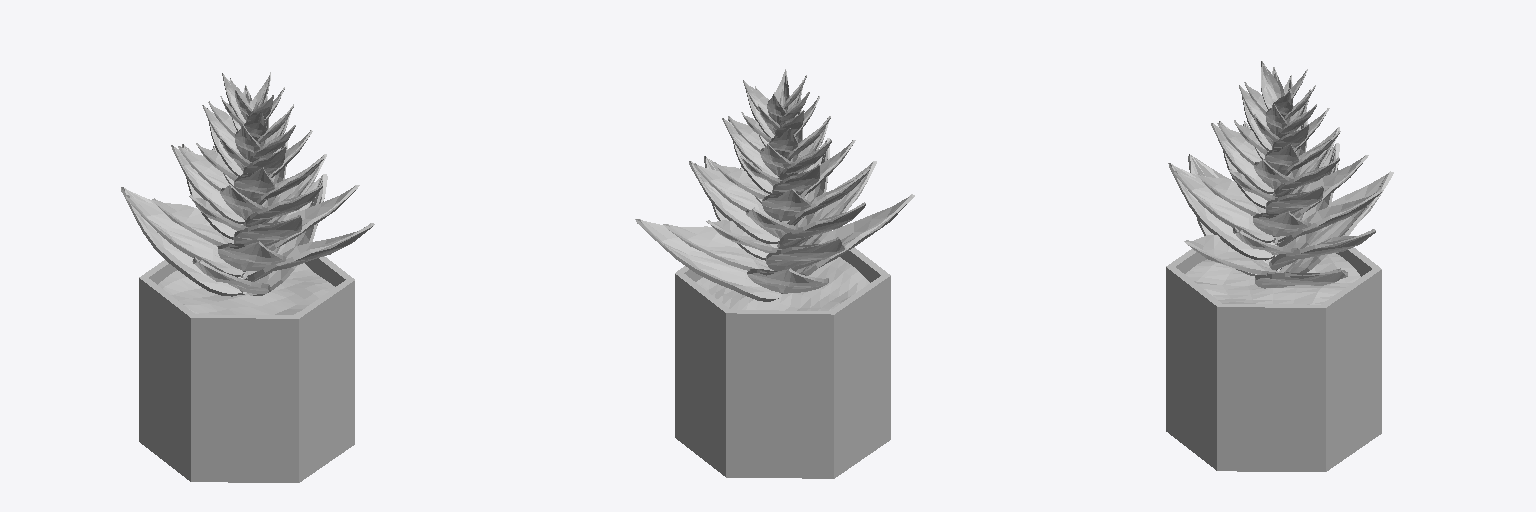
File: Planta.obj
The picture shows the model from 3 angles: view 1: azimuth 30°, elevation 25°; view 2: azimuth 150°, elevation 25°; view 3: azimuth 270°, elevation 25°; orthographic projection.
Parts seen in each view (by area): view 1: succulent_dirt_Plane.002; view 2: succulent_dirt_Plane.002; view 3: succulent_dirt_Plane.002.
Part boxes in pixels (x1,y1,x2,y2): succulent_dirt_Plane.002: (121,72,374,482); succulent_dirt_Plane.002: (635,69,914,478); succulent_dirt_Plane.002: (1166,61,1393,471).
Size of the model in its own units: 2.14 by 3.65 by 2.08.